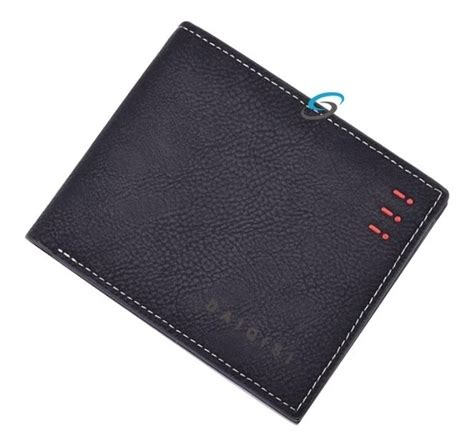gamuza: (24, 21, 450, 424)
